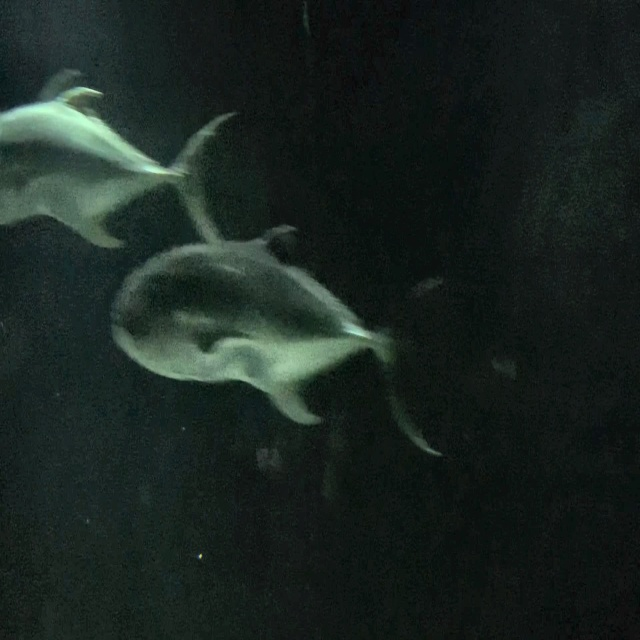fish: (110, 218, 446, 465), (1, 85, 239, 270)
